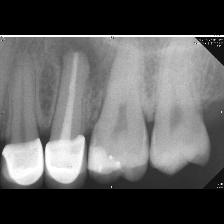apical_lesion: (45, 38, 102, 190)
